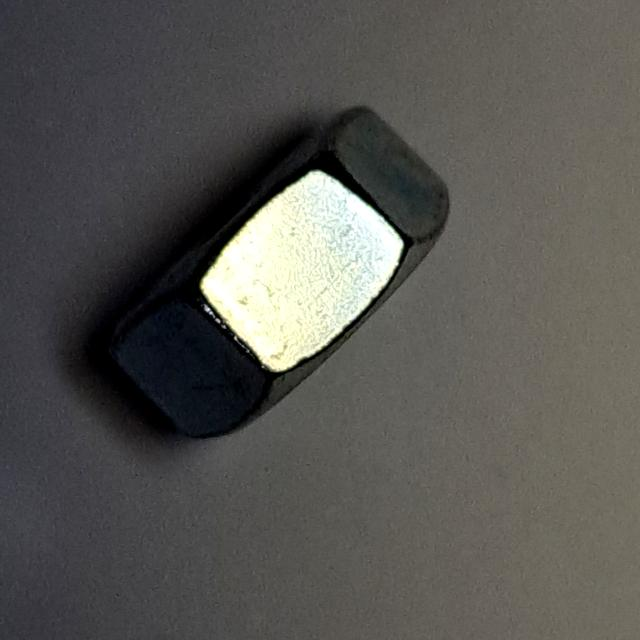Side_Excellent: (75, 93, 476, 455)
